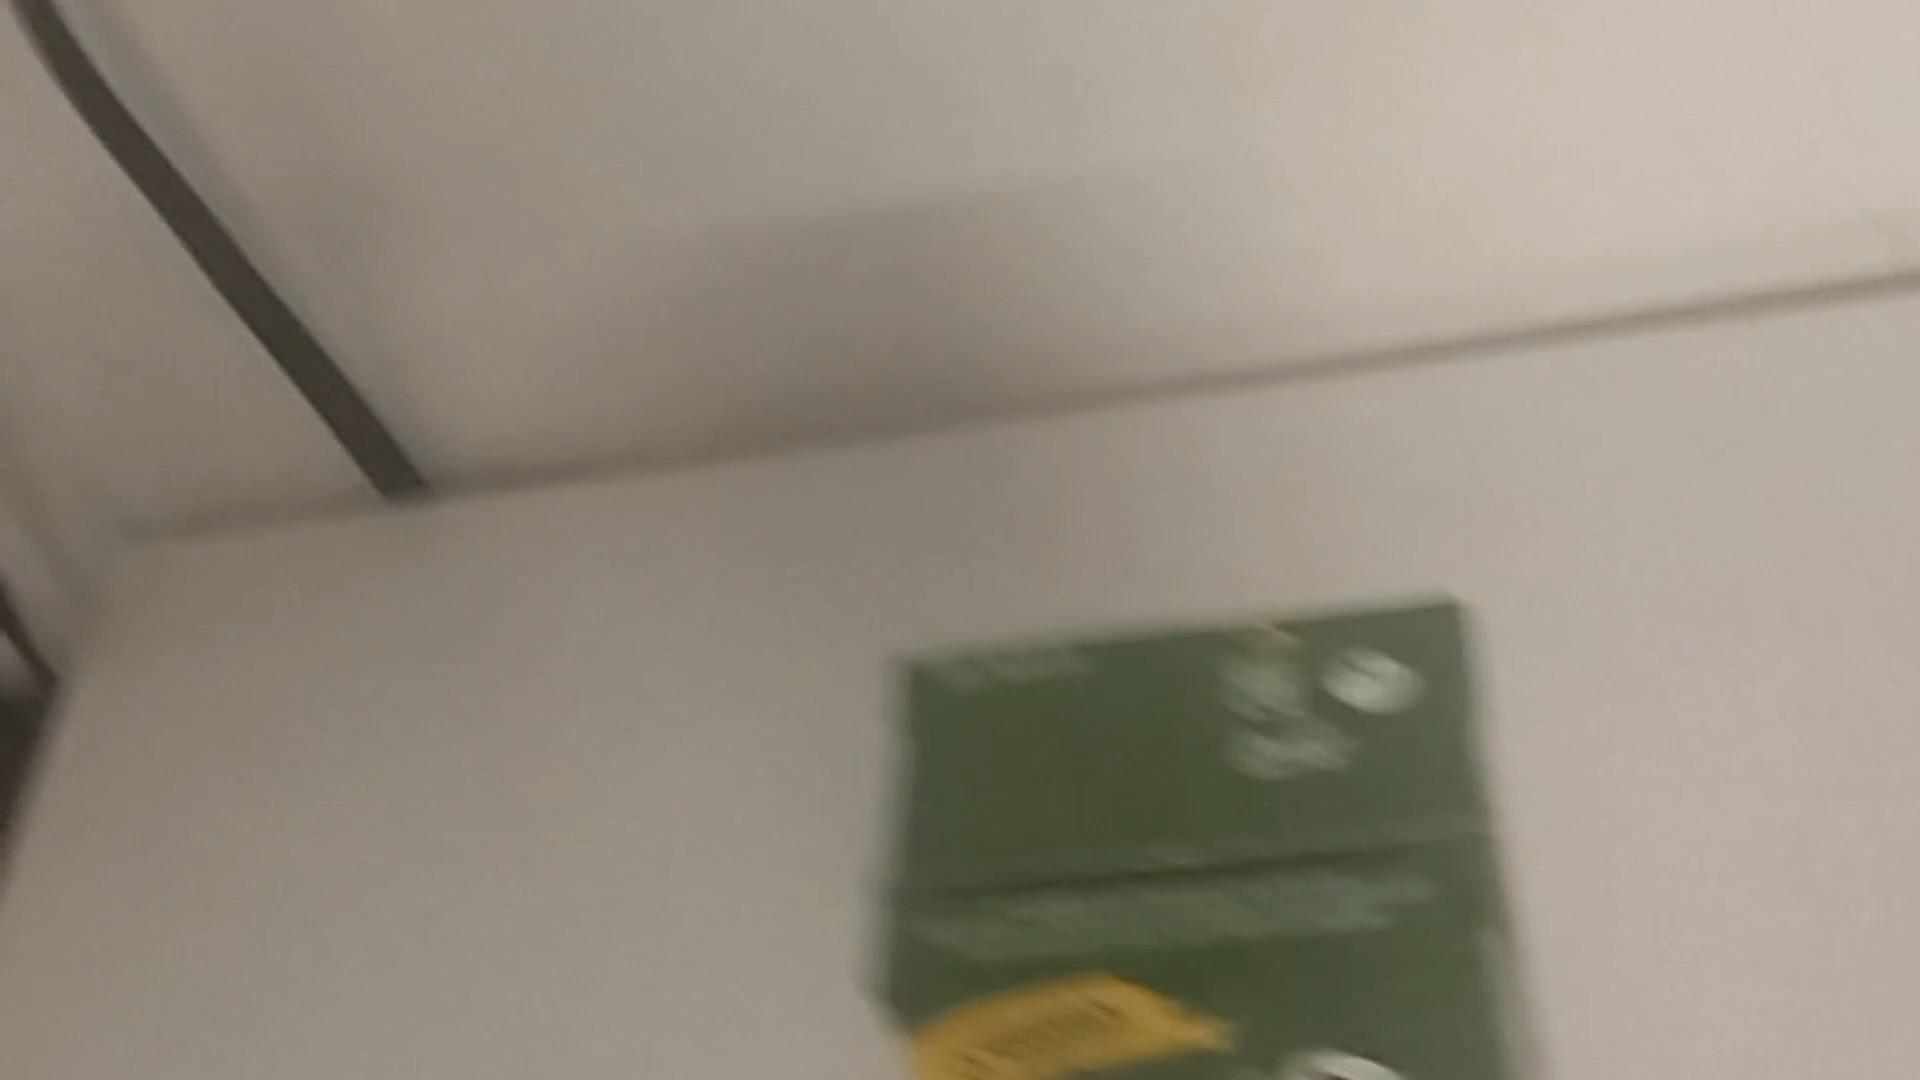coco: (873, 622, 1527, 1080)
